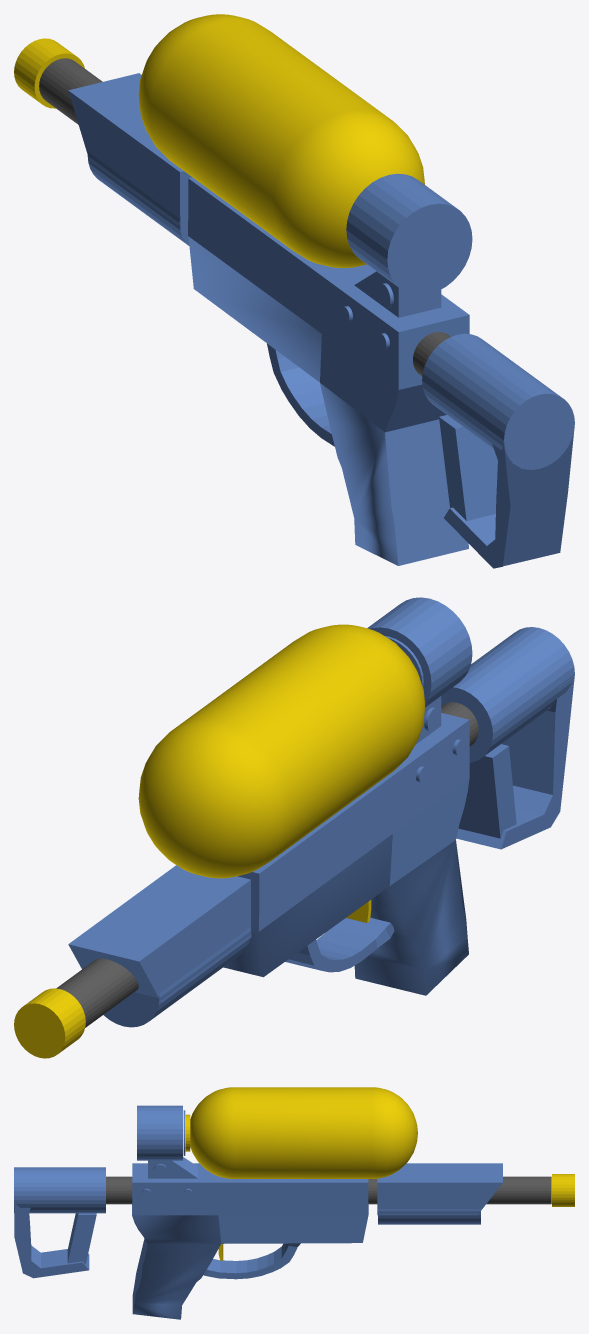
Rendered from 水鉄砲.fbx.
The picture shows the model from 3 angles, top to bottom: view 1: azimuth 30°, elevation 25°; view 2: azimuth 150°, elevation 25°; view 3: azimuth 270°, elevation 25°; orthographic projection. The views are drawn at different scales.
Parts seen in each view (by area): view 1: 立方体.004; view 2: 立方体.004; view 3: 立方体.004.
Boxes of the visible parts, x1,y1,x2,y2 form: 立方体.004: (14, 14, 574, 568); 立方体.004: (14, 597, 574, 1058); 立方体.004: (14, 1087, 574, 1319).
Bounding box in the file's own units: 1219 × 200 × 524.
